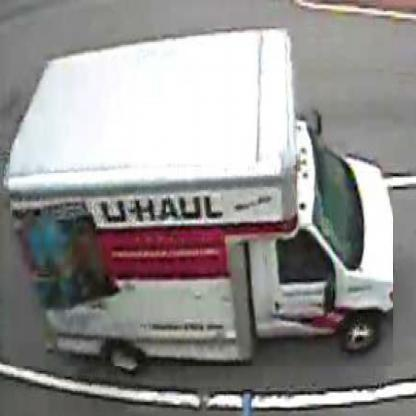truck: (11, 28, 395, 369)
